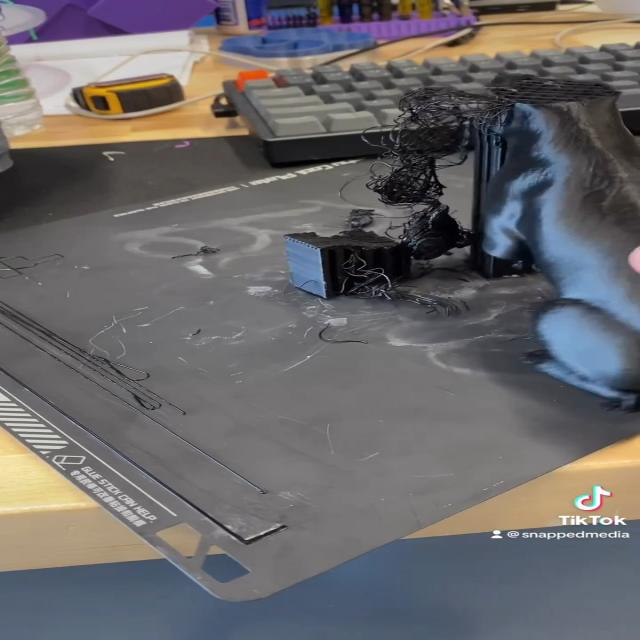spaghetti: (322, 89, 516, 328)
